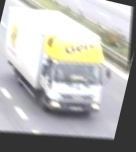truck: (0, 0, 133, 138)
